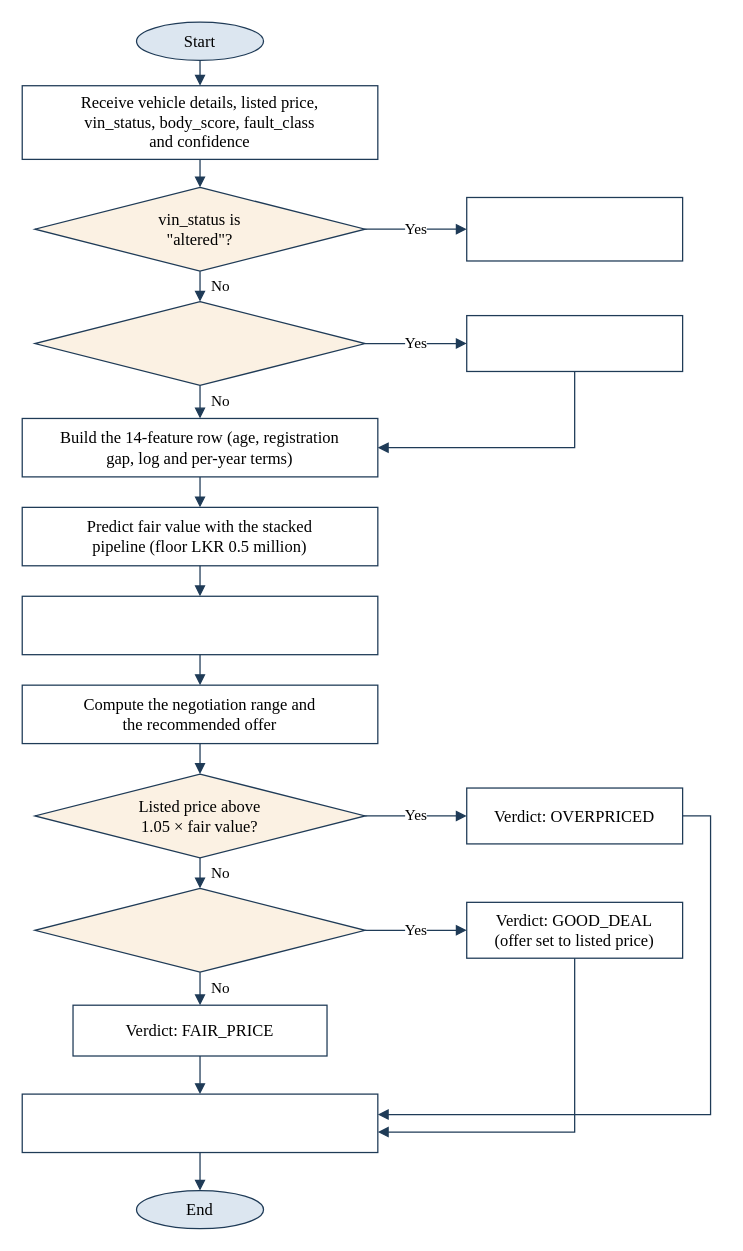
Some shapes in this 743 by 1251 pixel diagram are drawn without their labels. Each missing label, with the centre of its shape:
"Attach a VIN caution note to the response" goes at point (574, 342).
"Compose the explanation and return the JSON response" goes at point (199, 1123).
"Listed price below 0.95 × fair value?" goes at point (199, 929).
"Look up engine and body repair ranges in the repair cost table" goes at point (199, 625).
"Return DO_NOT_BUY with a legal-risk warning; stop" goes at point (574, 228).
"vin_status needs review or is unknown?" goes at point (199, 342).
